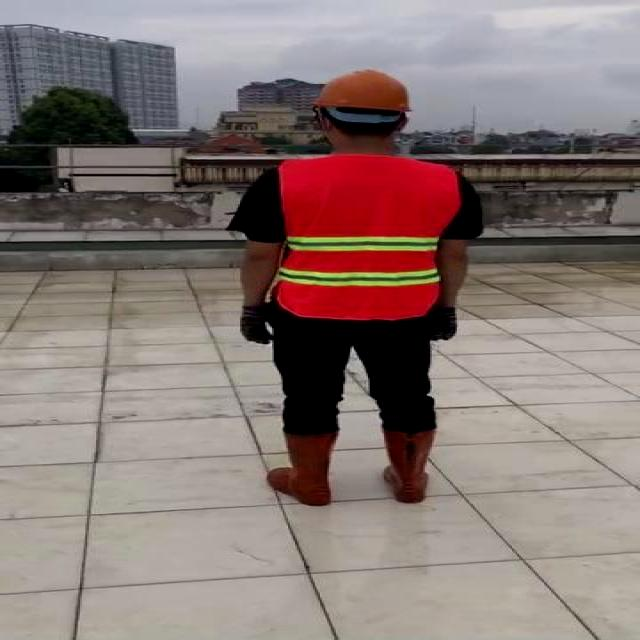boots: (266, 429, 338, 507), (379, 429, 437, 507)
hand_glove: (237, 305, 279, 344), (428, 310, 464, 340)
head_helmet: (308, 67, 414, 116)
person: (228, 66, 486, 511)
vest: (275, 153, 457, 316)
